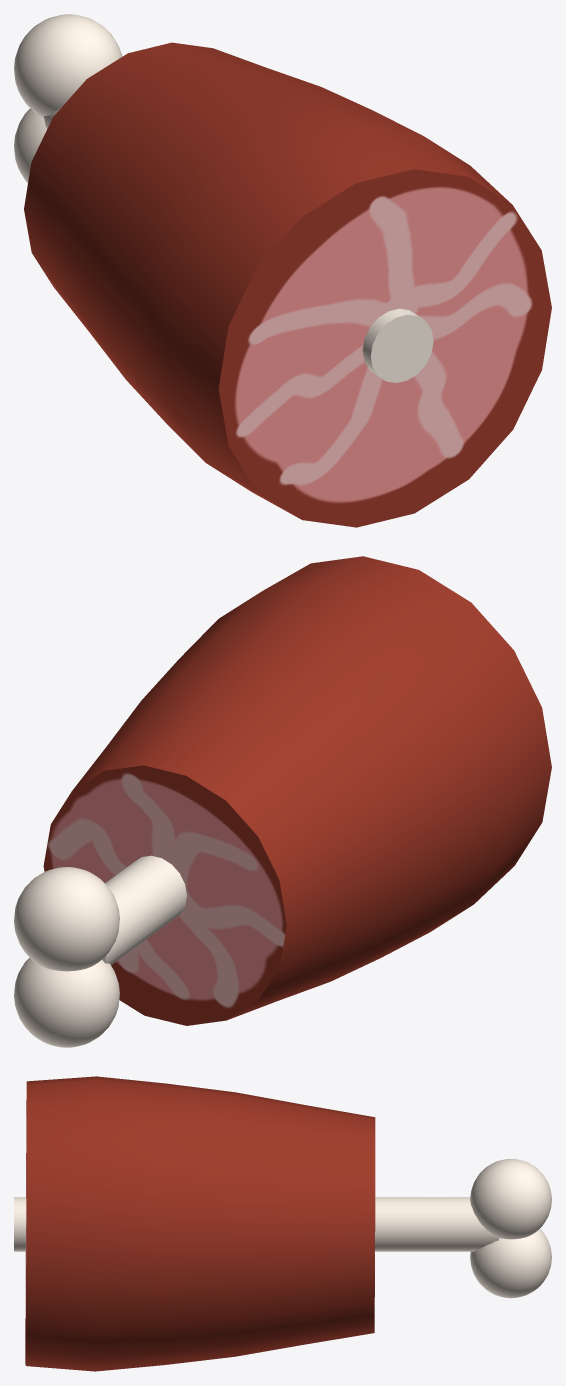
File: Meat.fbx
3 renders of one model, top to bottom at view 1: azimuth 30°, elevation 25°; view 2: azimuth 150°, elevation 25°; view 3: azimuth 270°, elevation 25°, orthographic. The views are drawn at different scales.
Parts seen in each view (by area): view 1: Cylinder001, Sphere002, Cylinder002, Sphere001; view 2: Cylinder001, Sphere002, Sphere001, Cylinder002; view 3: Cylinder001, Cylinder002, Sphere002, Sphere001.
Boxes of the visible parts, x1=… form: Cylinder001: x1=24, y1=42, x2=551, y2=527; Sphere002: x1=14, y1=14, x2=122, y2=117; Cylinder002: x1=44, y1=107, x2=433, y2=382; Sphere001: x1=14, y1=108, x2=47, y2=182; Cylinder001: x1=43, y1=556, x2=551, y2=1025; Sphere002: x1=14, y1=867, x2=119, y2=971; Sphere001: x1=14, y1=957, x2=119, y2=1047; Cylinder002: x1=102, y1=855, x2=186, y2=964; Cylinder001: x1=25, y1=1076, x2=375, y2=1371; Cylinder002: x1=14, y1=1197, x2=498, y2=1251; Sphere002: x1=470, y1=1159, x2=551, y2=1239; Sphere001: x1=470, y1=1229, x2=551, y2=1298.
Size of the model in its own units: 31.28 by 30.81 by 56.81.
